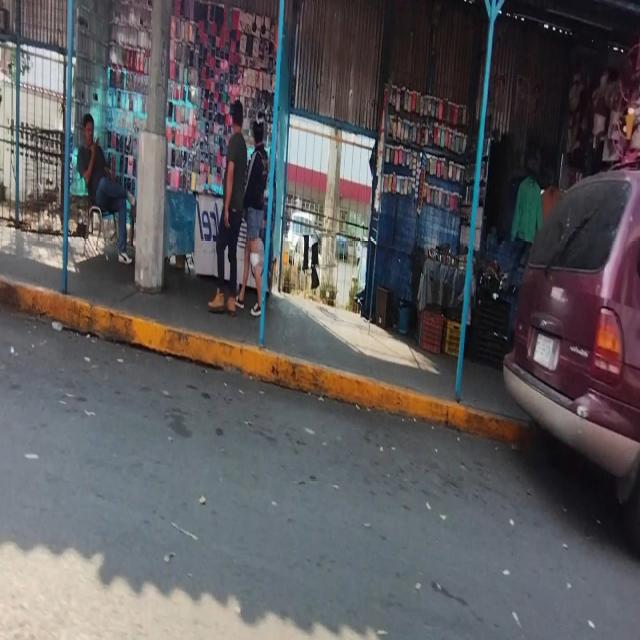adult: (76, 111, 136, 264), (208, 100, 246, 313), (235, 118, 268, 314)
